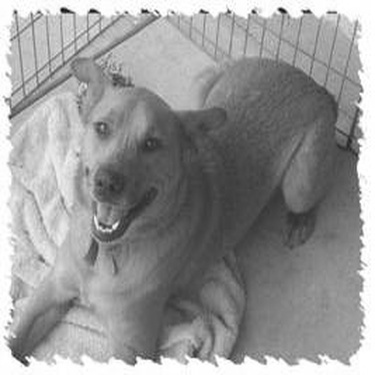dog: (1, 48, 345, 365)
